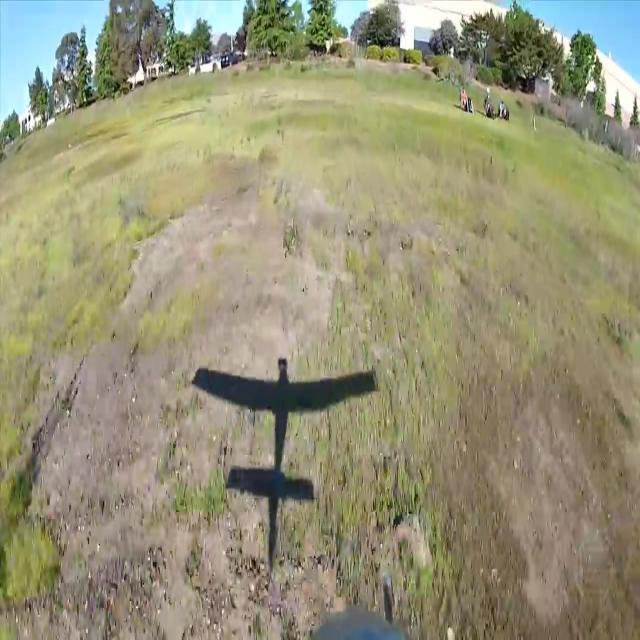iha: (189, 354, 379, 574)
